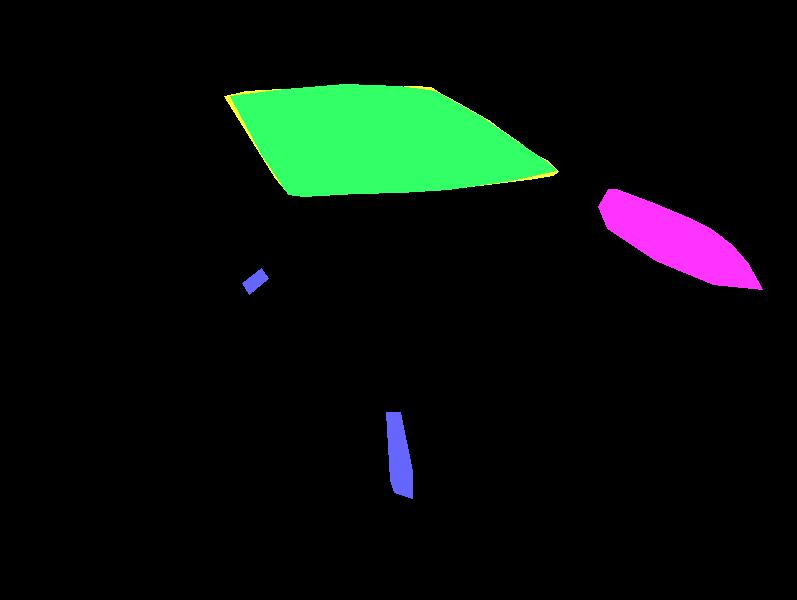Broken part: (230, 84, 556, 196)
Cracked: (224, 86, 558, 193)
Dent: (598, 189, 762, 289)
Scratch: (386, 412, 412, 498), (242, 268, 268, 294), (393, 475, 408, 484), (392, 468, 403, 474), (387, 416, 393, 426), (392, 448, 395, 461)
